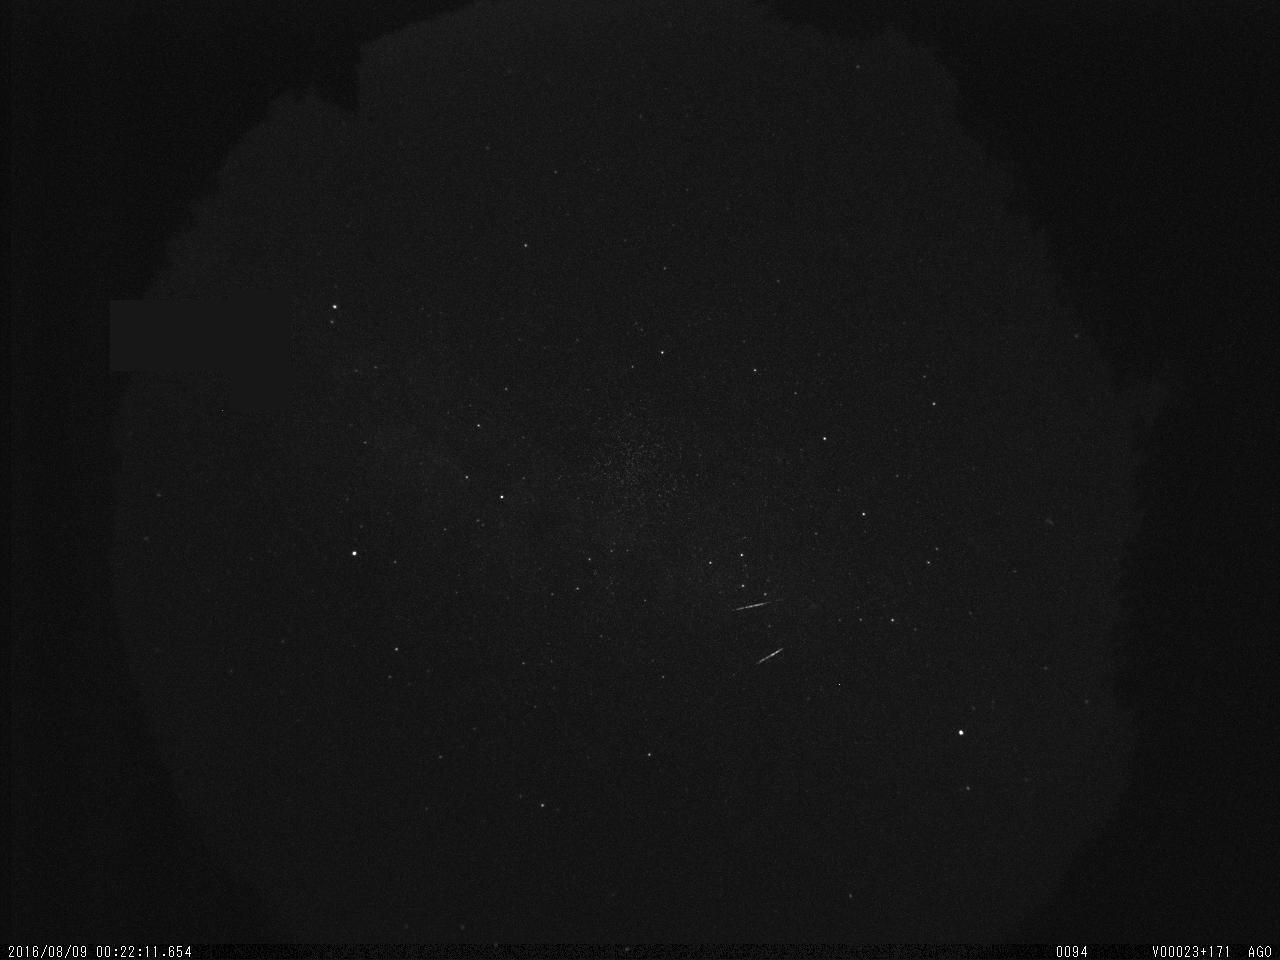Meteor: (728, 589, 791, 622), (753, 644, 785, 666)
